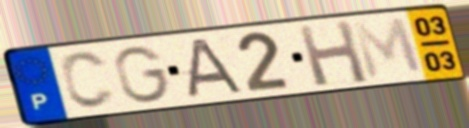2: (239, 29, 296, 96)
A: (181, 36, 248, 101)
C: (57, 49, 120, 111)
G: (111, 44, 174, 105)
H: (294, 18, 372, 89)
M: (348, 15, 427, 82)
